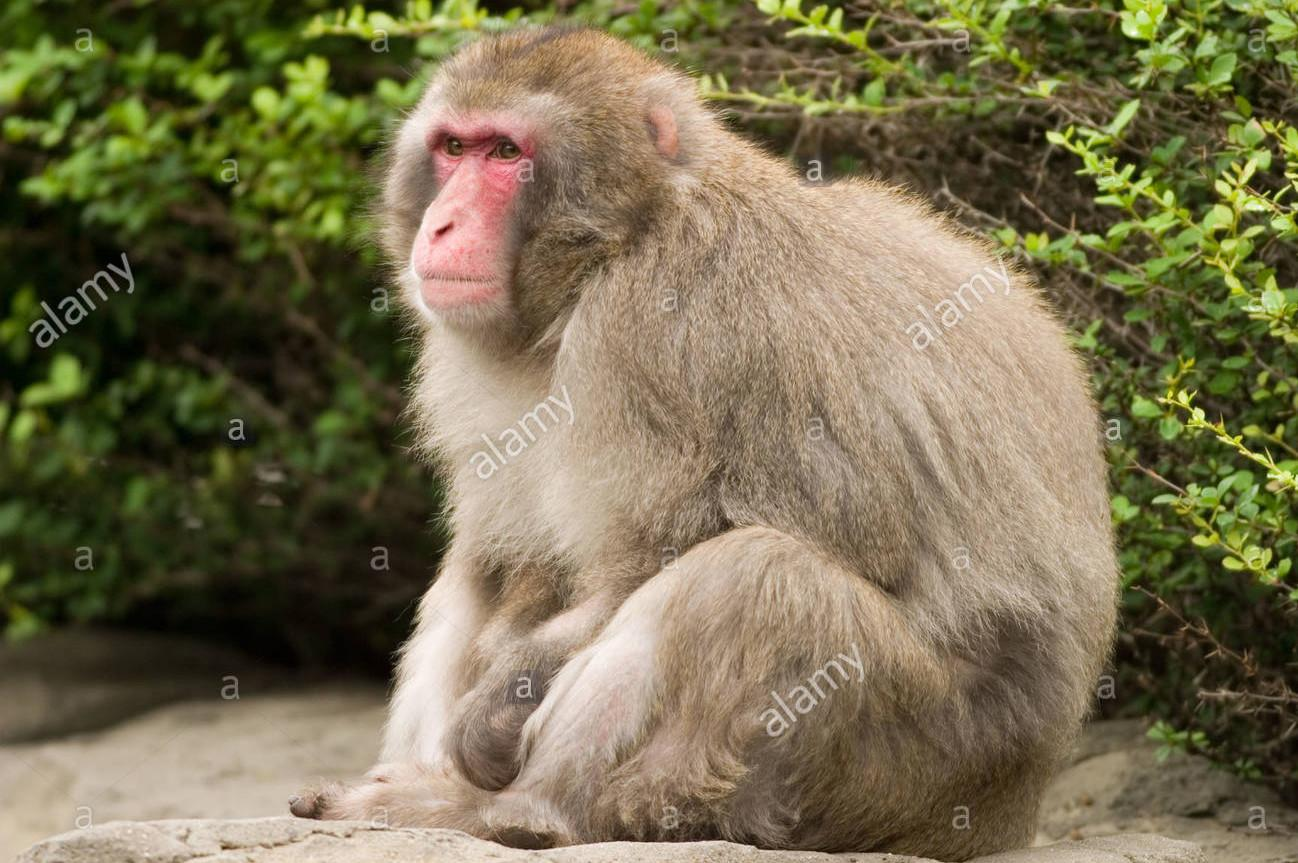monkey: (295, 26, 1116, 863)
